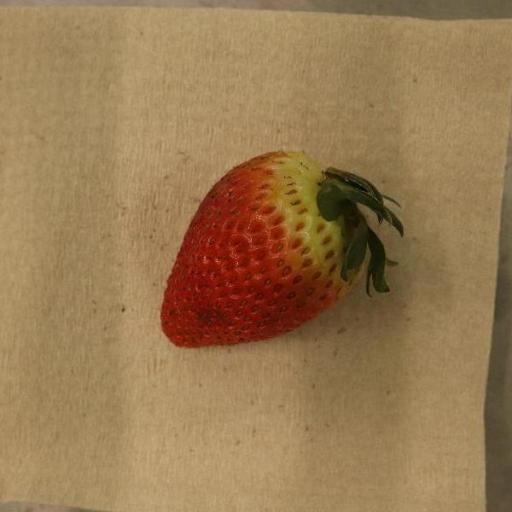Strawberry: (161, 151, 406, 350)
